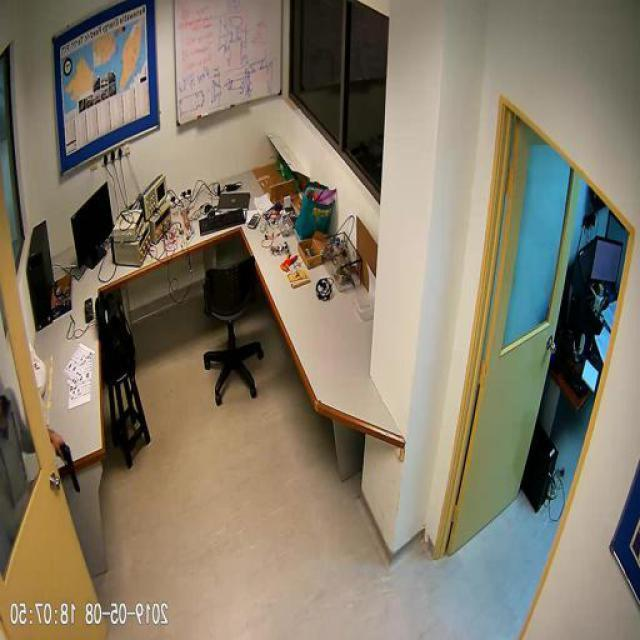weapon: (54, 444, 82, 492)
